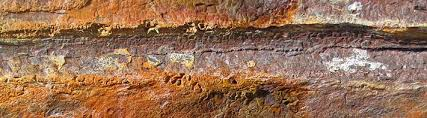rust: (1, 1, 427, 117)
